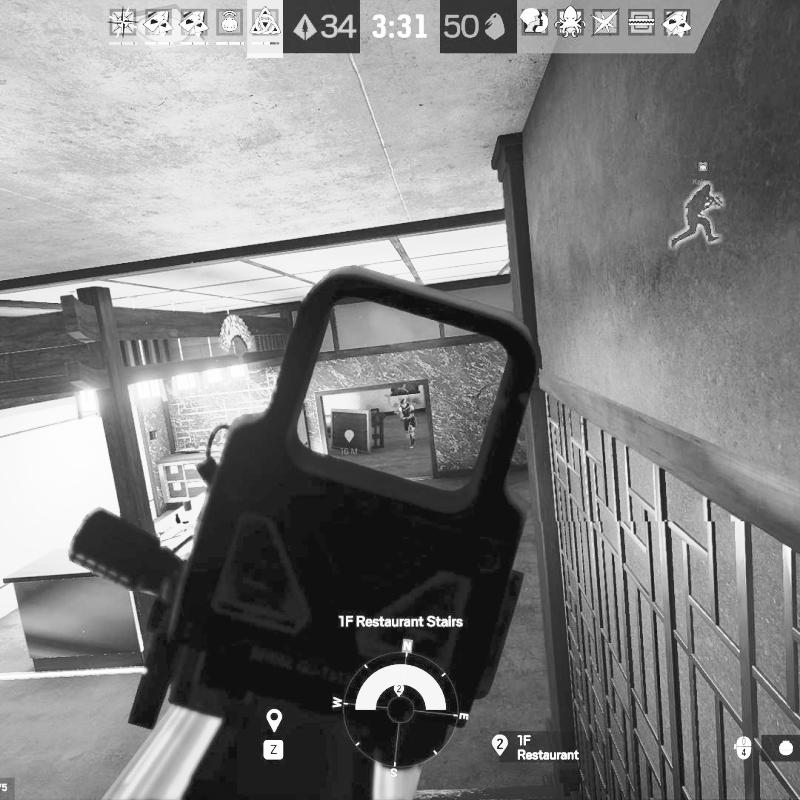Character: (394, 397, 419, 450)
Friend_label: (691, 160, 712, 186)
Head: (398, 398, 409, 408)
